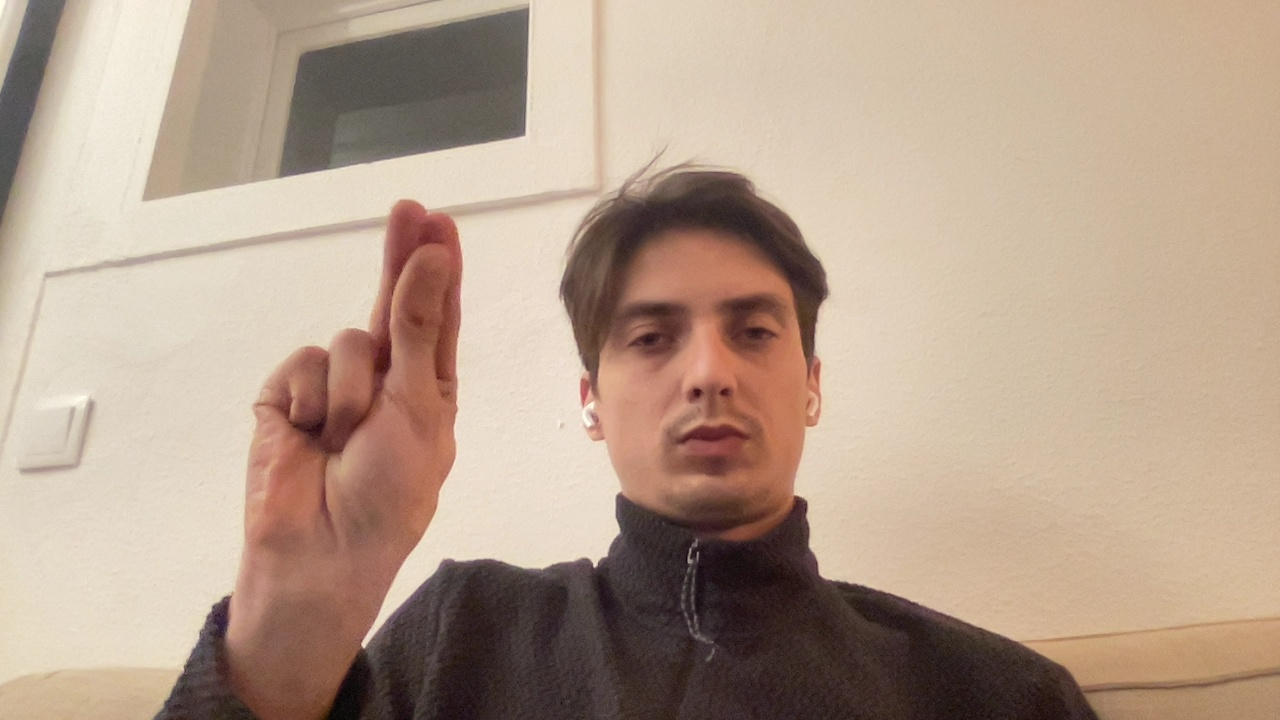no: (197, 152, 504, 611)
